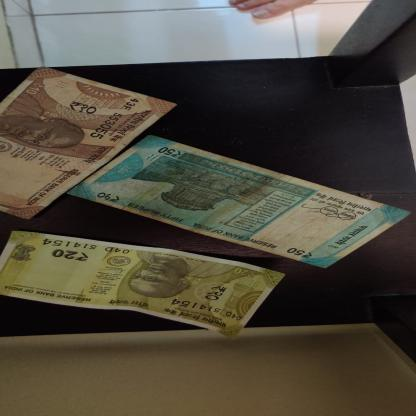New10Front: (0, 65, 181, 222)
New20Front: (0, 229, 289, 341)
New50Back: (65, 134, 413, 270)
